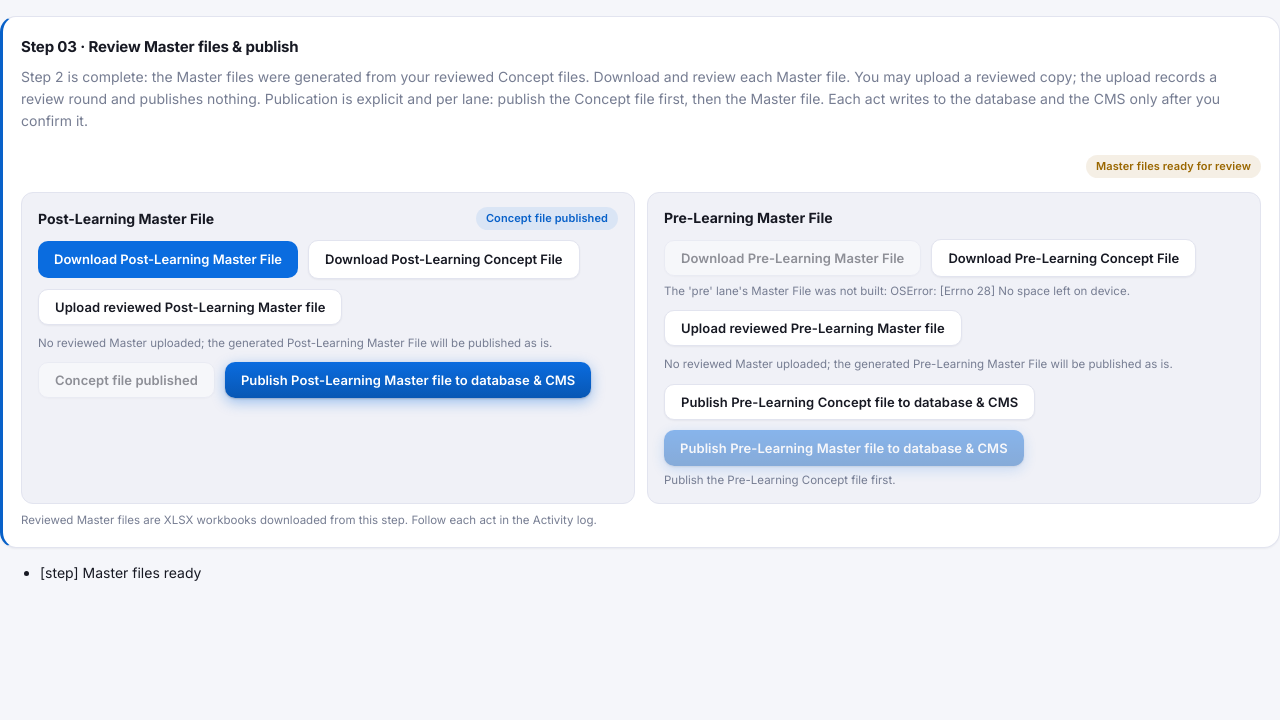
Test: a queued CMS append is not shown or logged as a finished publication (finding 2)
This screenshot has width=1280, height=720.
Click the button with test id "publish-master-post". click: (408, 380)
box: 225,362 -> 591,398
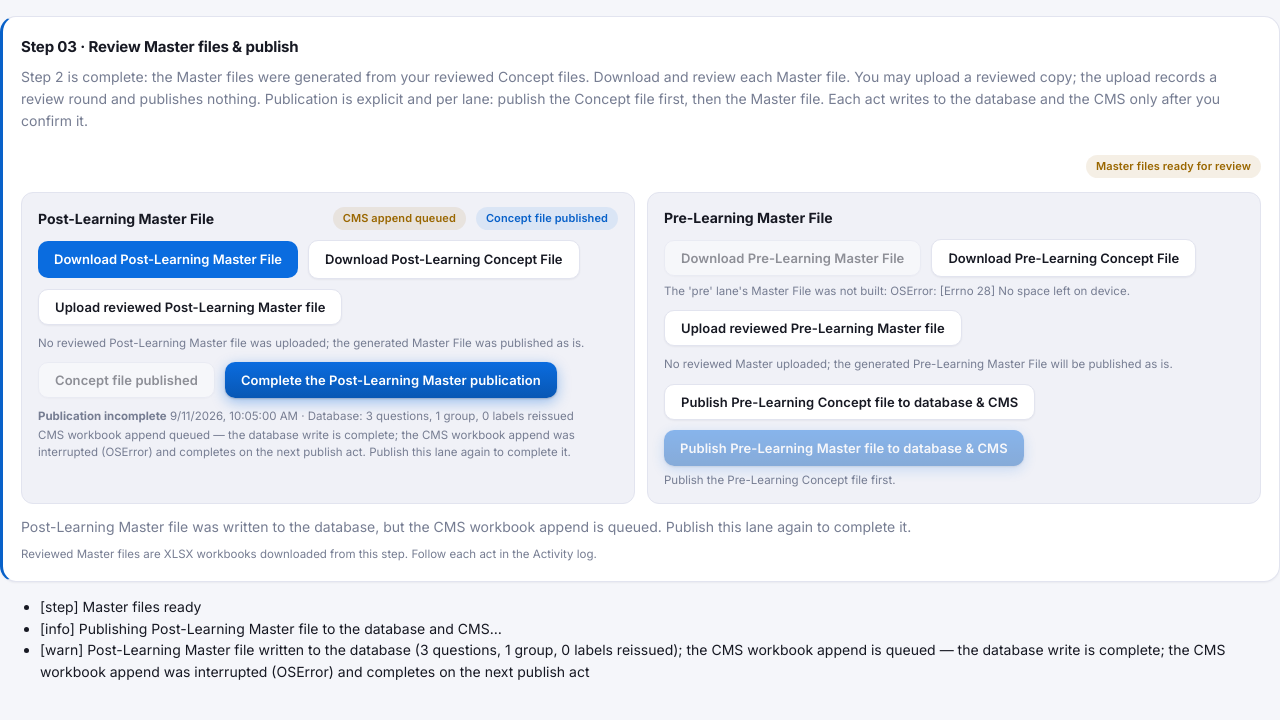
Expected: the message with test id "master-publication-post" shows "3 questions", 366,409 -> 574,423
Expected: the text with test id "master-publication-queued-post" shows "completes on the next publish act", 38,428 -> 575,459
Expected: the list with test id "console-lines" shows "queued", 40,641 -> 1225,680
